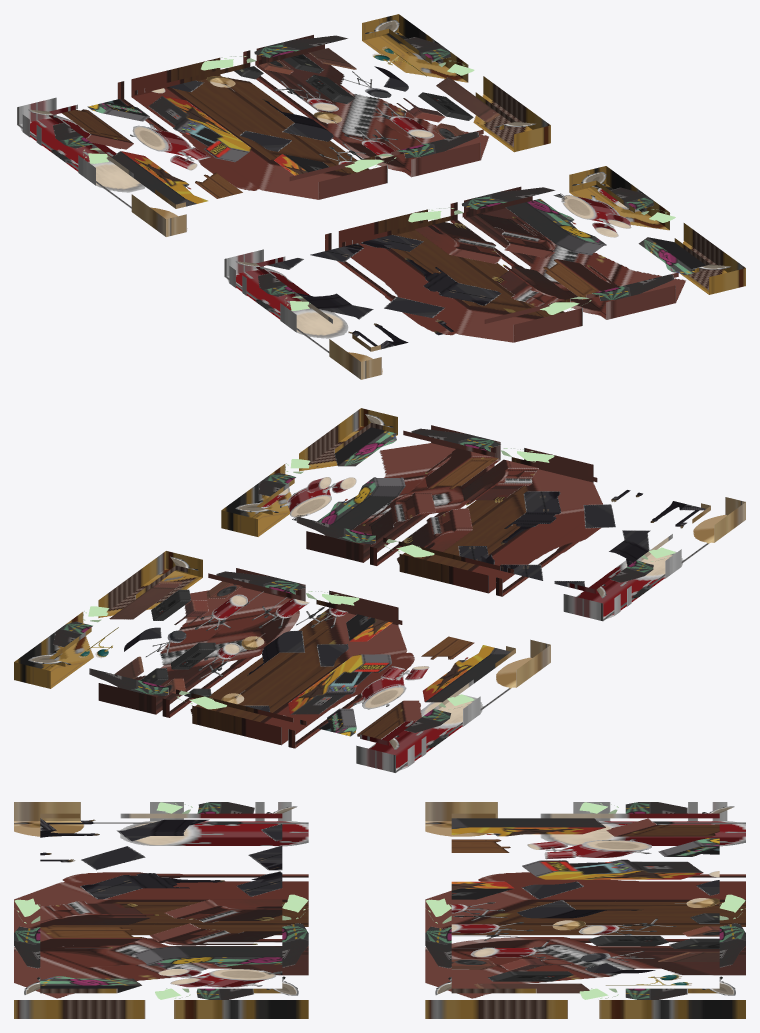
3 views of the same model, one above another, from view 1: azimuth 30°, elevation 25°; view 2: azimuth 150°, elevation 25°; view 3: azimuth 270°, elevation 25° (orthographic). The views are drawn at different scales.
Size of the model in its own units: 0.9 by 0.04 by 1.41.
